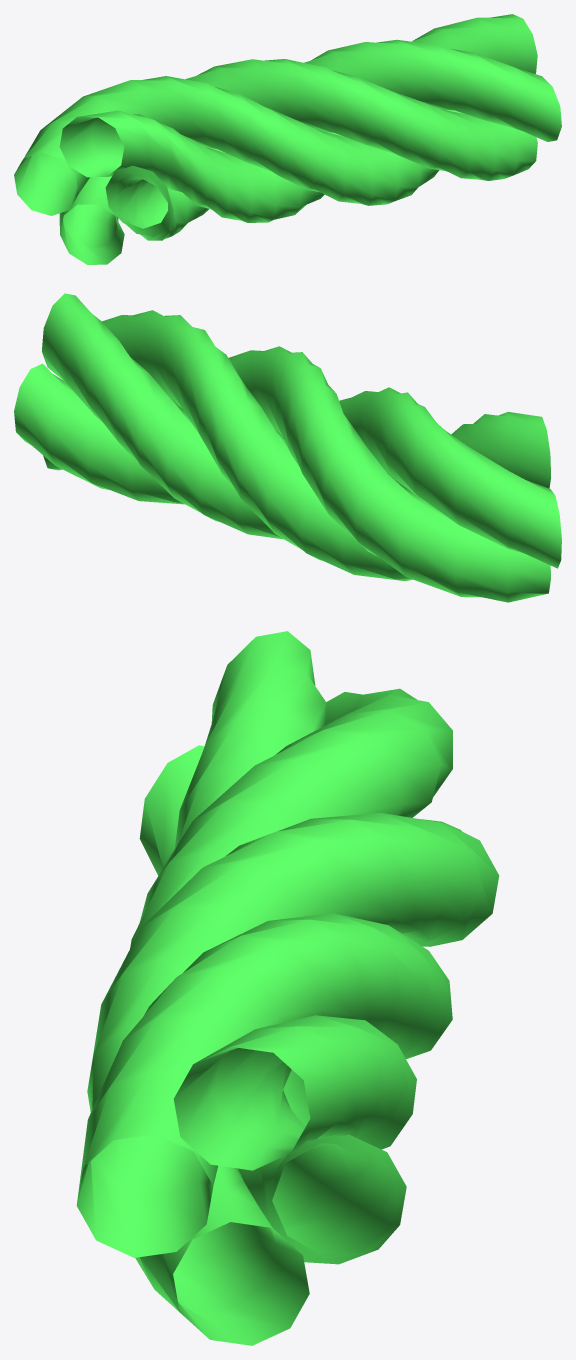
The model's file is GrassRope.fbx.
3 views of the same model, one above another, from view 1: azimuth 30°, elevation 25°; view 2: azimuth 150°, elevation 25°; view 3: azimuth 270°, elevation 25° (orthographic). The views are drawn at different scales.
Visible parts, largest first — view 1: Rope; view 2: Rope; view 3: Rope.
Part boxes in pixels (x1=…): Rope: x1=14, y1=14, x2=561, y2=264; Rope: x1=14, y1=293, x2=561, y2=602; Rope: x1=76, y1=631, x2=499, y2=1345.
Bounding box in the file's own units: 275 × 83.47 × 107.
